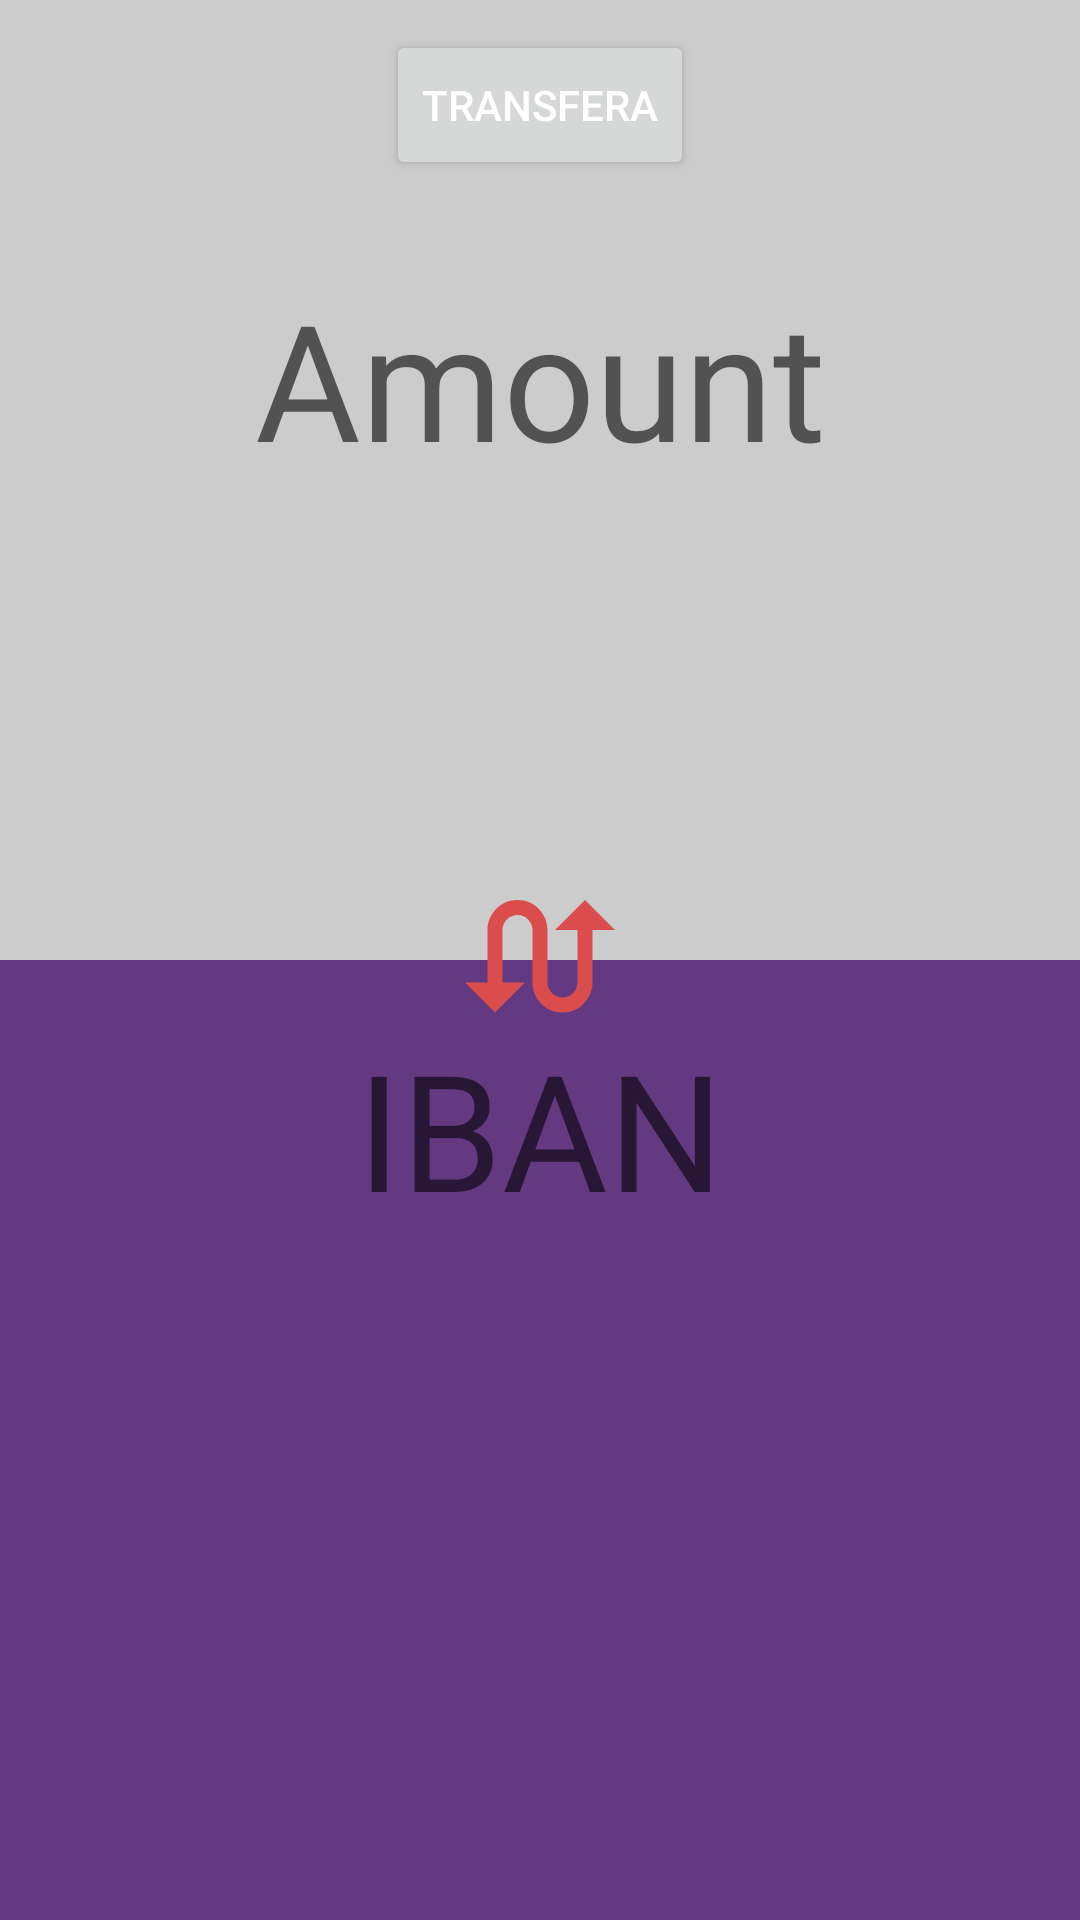

Icon click points for this 1080*1920 phone screenshot, format [x,y]:
swap calls: [540,960]
